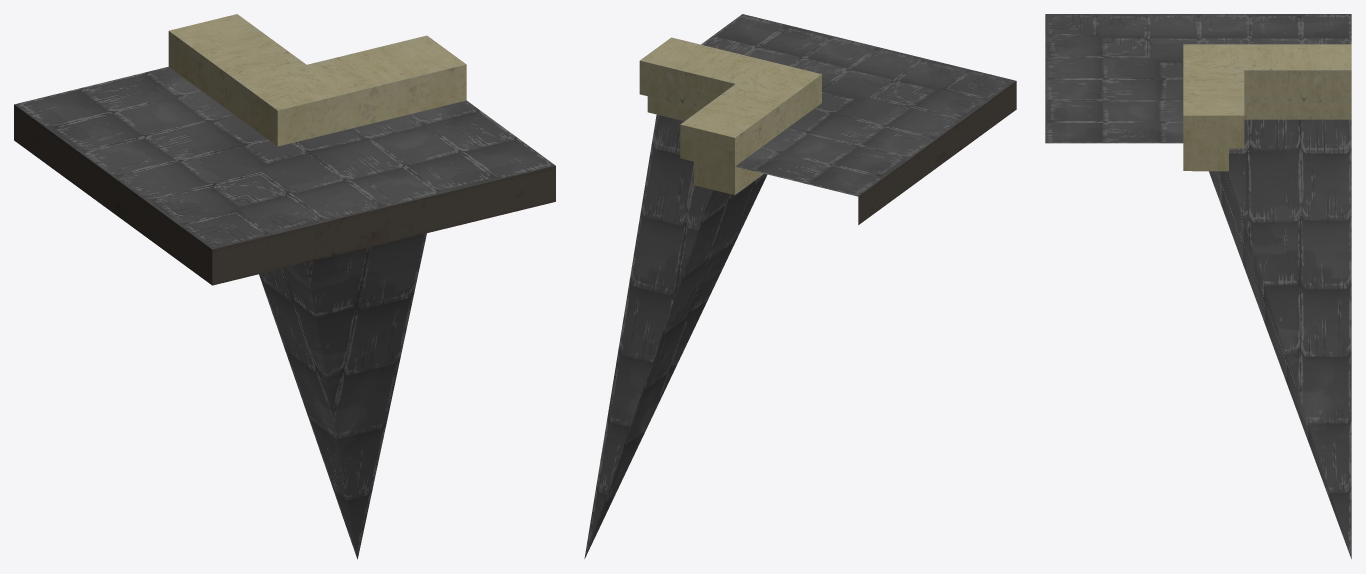
The model's file is Roof_SlateCornice_InnerCorner.gltf.
3 renders of one model, left to right at view 1: azimuth 30°, elevation 25°; view 2: azimuth 150°, elevation 25°; view 3: azimuth 270°, elevation 25°, orthographic. The views are drawn at different scales.
Parts seen in each view (by area): view 1: Roof_SlateCornice_InnerCorner; view 2: Roof_SlateCornice_InnerCorner; view 3: Roof_SlateCornice_InnerCorner.
Boxes of the visible parts, x1,y1,x2,y2 form: Roof_SlateCornice_InnerCorner: (14, 14, 555, 559); Roof_SlateCornice_InnerCorner: (584, 14, 1016, 558); Roof_SlateCornice_InnerCorner: (1045, 14, 1351, 558).
Bounding box in the file's own units: 2 × 3.2 × 2.
3 materials, 3 textured.
